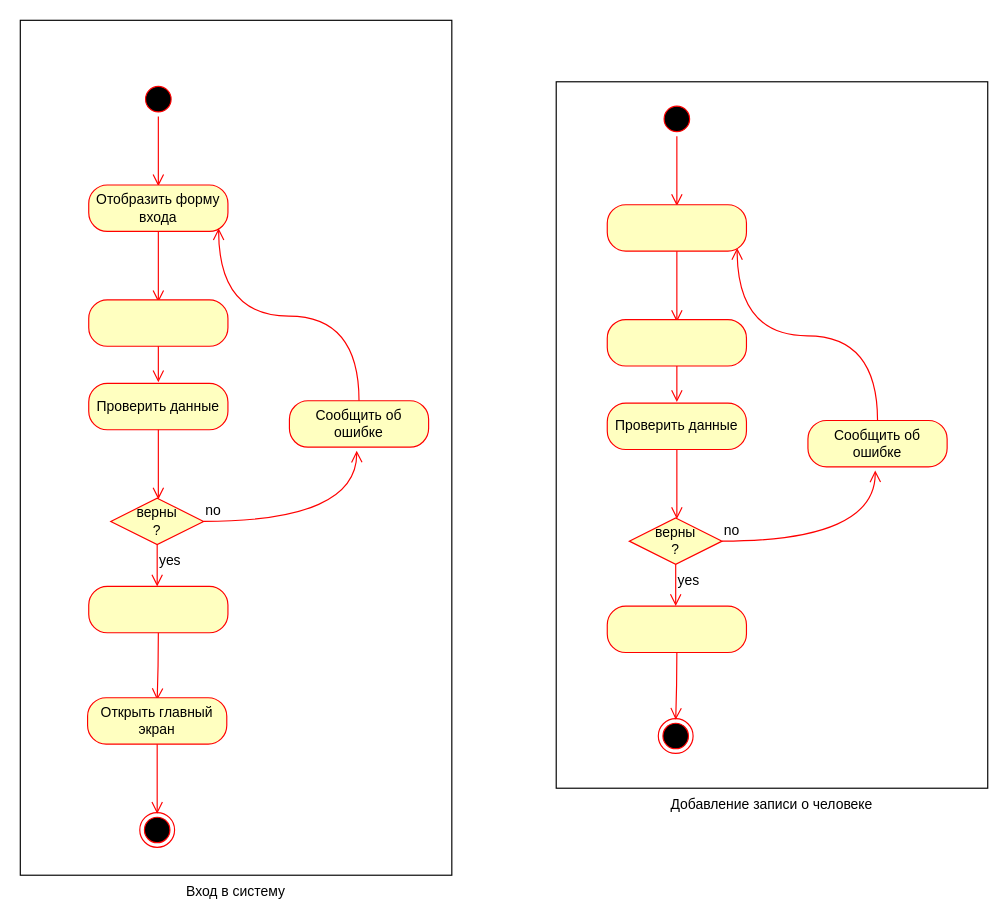
This 1008x920 diagram has some shape labels left out. Each missing label, with the centre of its shape:
ввод пароля и логина: (158,322)
запорлнить данные: (676,342)
Отобразить форму добавления: (676,227)
показать успех: (676,628)
Создать сессию: (158,609)
